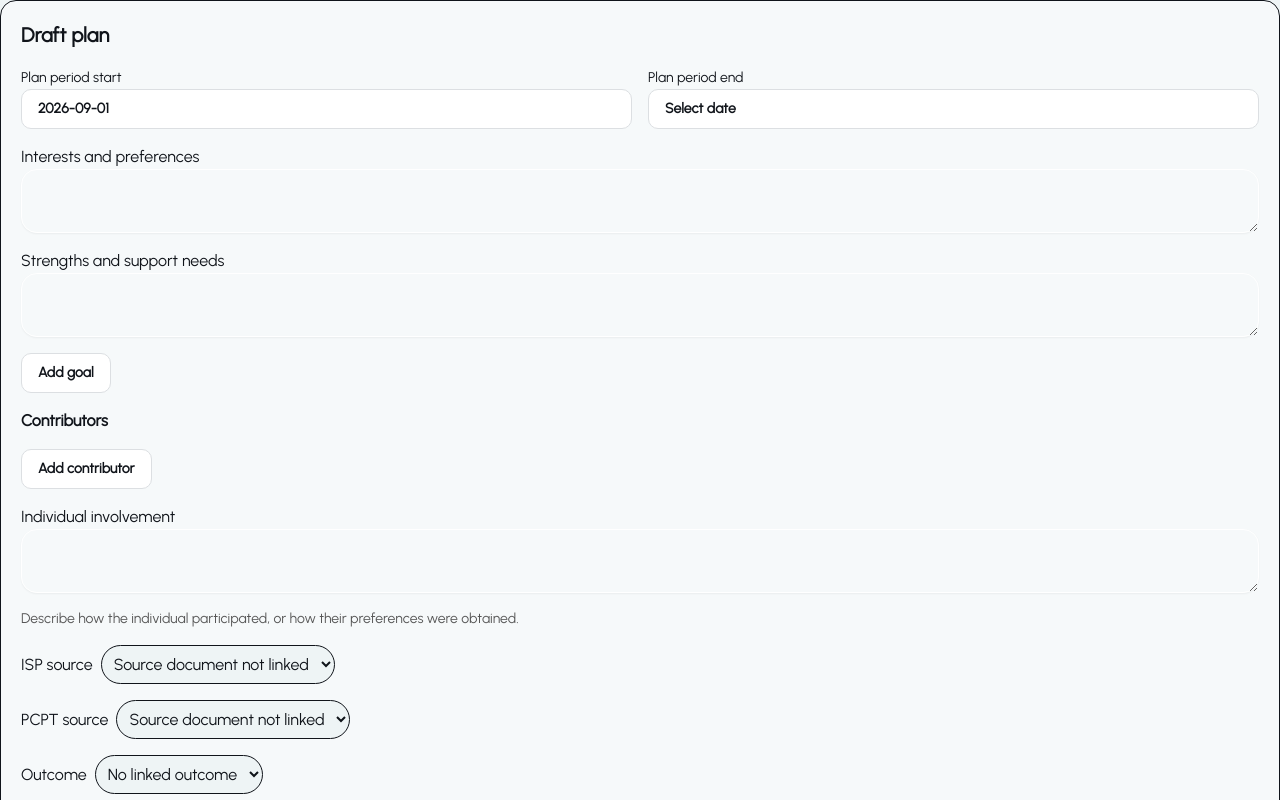
Scenario: opens the shared Calendar
Click the button named "Plan period start". click: (73, 109)
box: [21, 89, 632, 129]
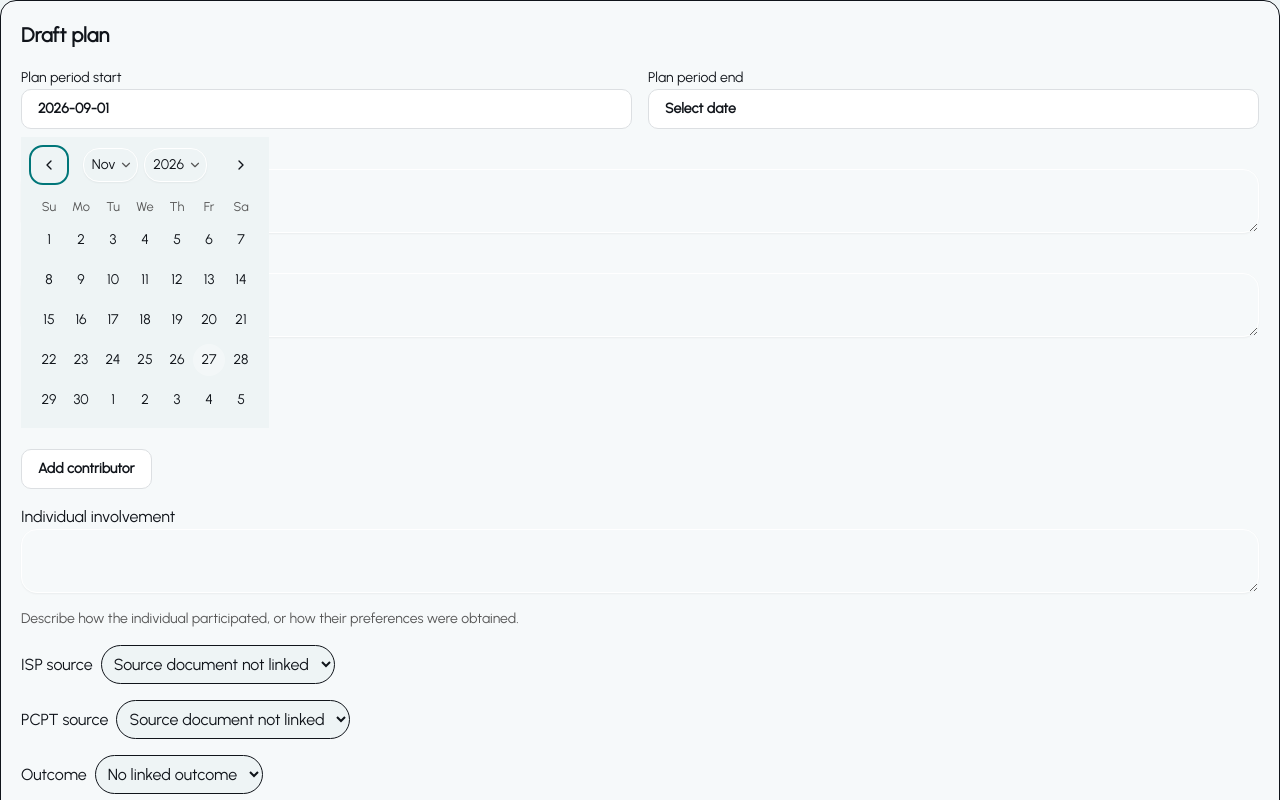
Check: the table is shown, box [33, 197, 257, 416]
